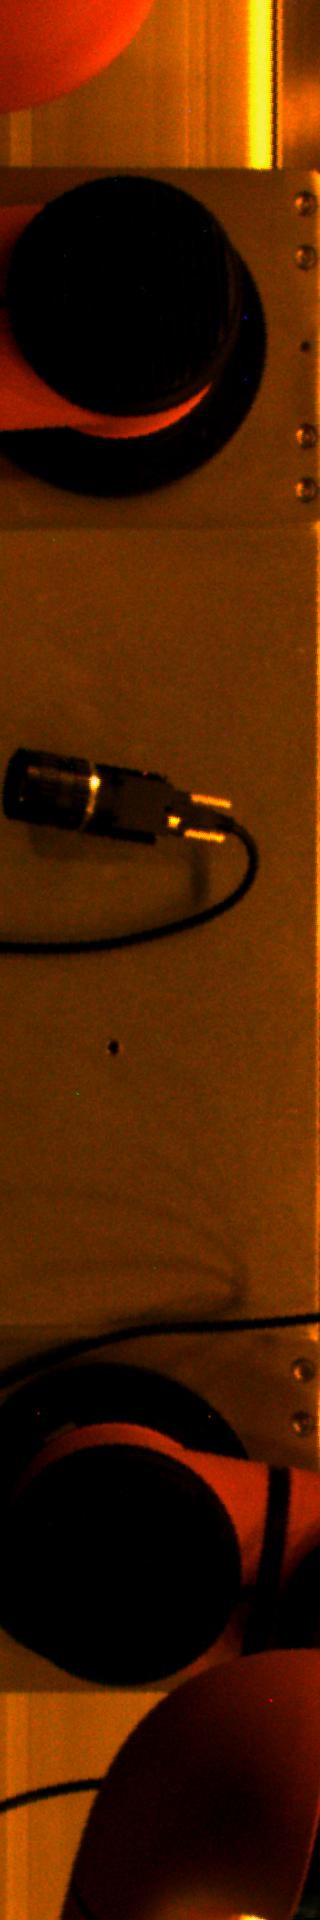keyPoint_2: (98, 1032, 128, 1062)
